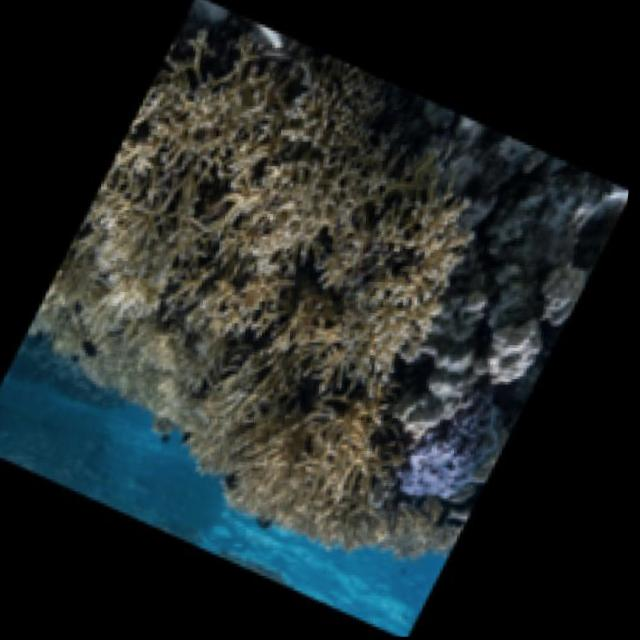Dead Coral: (66, 170, 280, 449), (179, 58, 404, 296), (192, 303, 413, 545), (316, 164, 479, 362)
